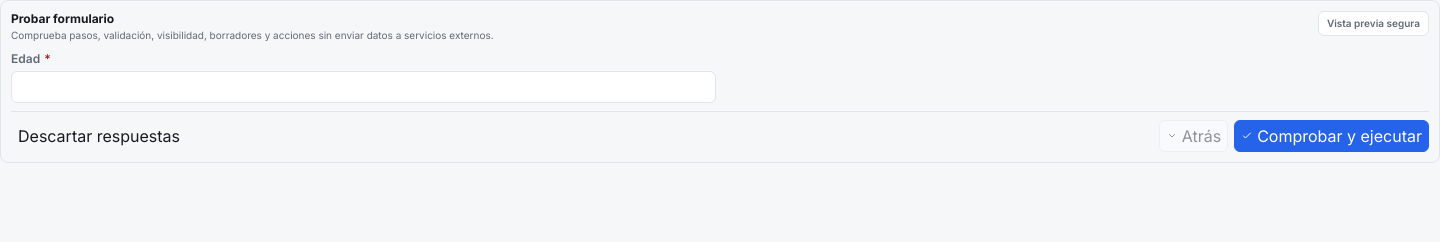
Test: M11.2 FormValidationPreview › muestra errores inline y enfoca el primer control inválido
The image size is (1440, 242).
Click the button "Comprobar y ejecutar".
click(1332, 136)  # box [1234, 120, 1429, 152]
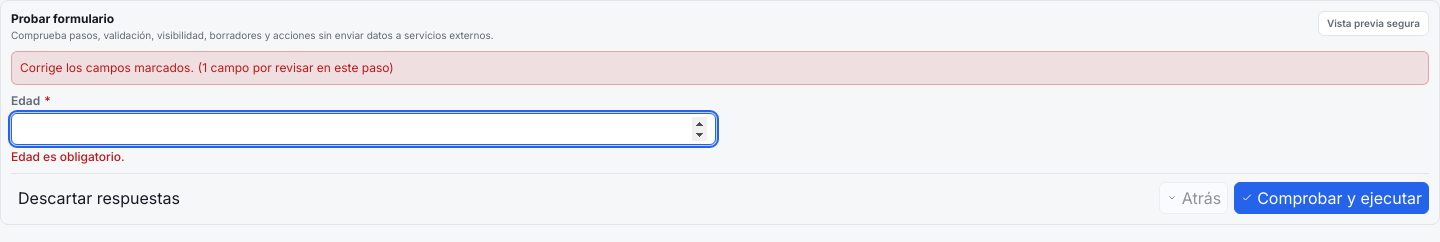
Now the message "Corrige los campos marcados.(1 campo por revisar en este paso)" is shown, box [11, 51, 1429, 85]
Now the message "Edad es obligatorio." is shown, box [11, 149, 125, 164]
